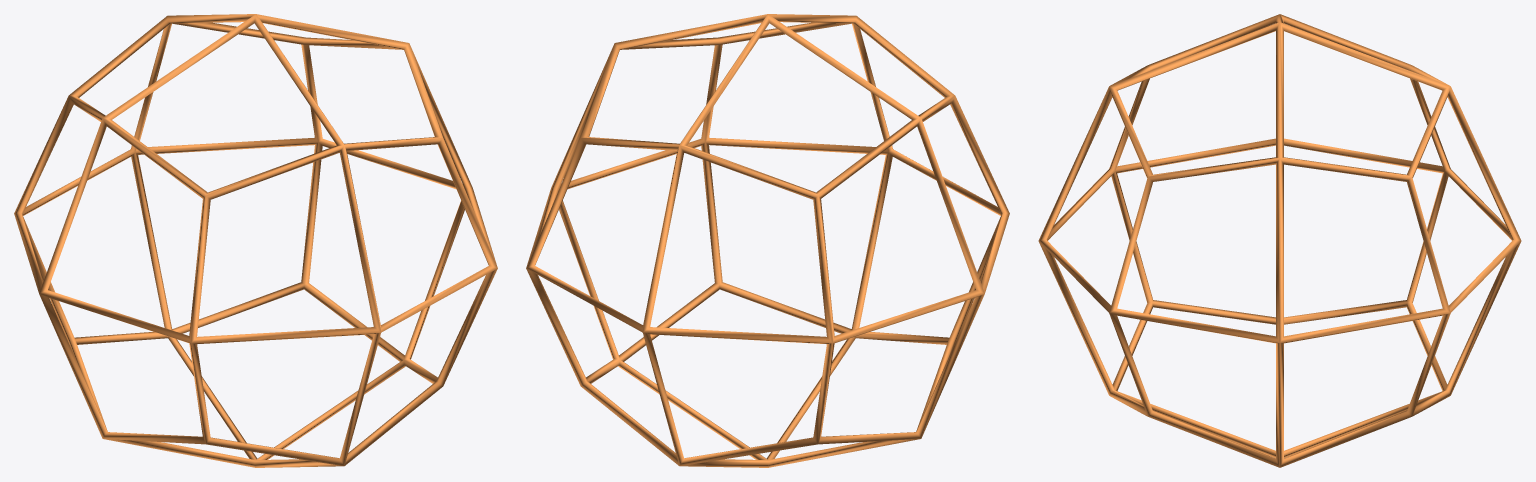
File: DeltoidalIcositetrahedron2.glb
3 views of the same model, side by side, from view 1: azimuth 30°, elevation 25°; view 2: azimuth 150°, elevation 25°; view 3: azimuth 270°, elevation 25° (orthographic). The views are drawn at different scales.
Parts seen in each view (by area): view 1: DeltoidalIcositetrahedron; view 2: DeltoidalIcositetrahedron; view 3: DeltoidalIcositetrahedron.
Part boxes in pixels (bbox=[...]): DeltoidalIcositetrahedron: bbox=[14, 14, 497, 467]; DeltoidalIcositetrahedron: bbox=[526, 14, 1009, 467]; DeltoidalIcositetrahedron: bbox=[1038, 14, 1521, 467].
Bounding box in the file's own units: 2.88 × 2.88 × 2.88.
